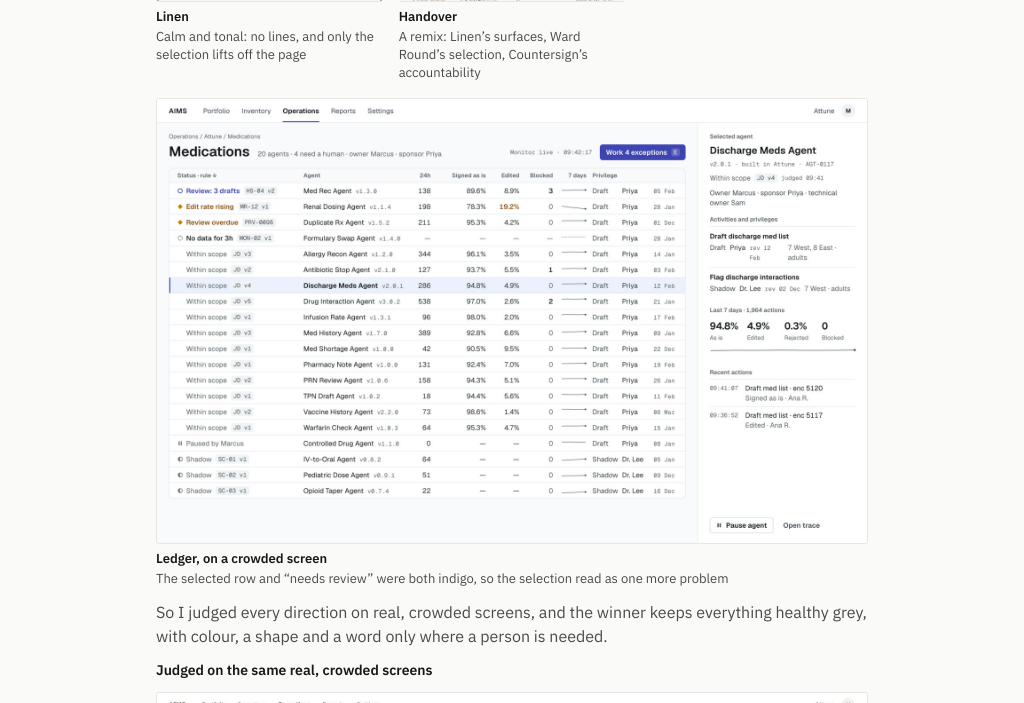
Test: an image opens larger straight away, and closes again
(page scrolled)
Step 1. Click the button named "The Medications division view in Ledger: the selected Discha" → (512, 321), box [156,98,868,544]
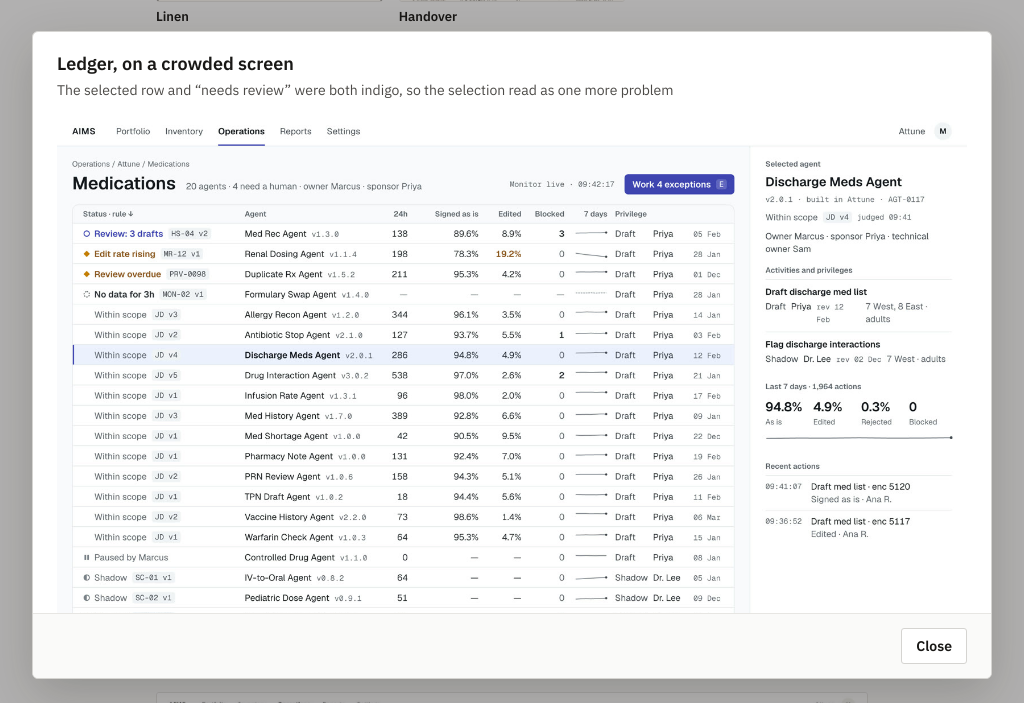
Expected: the picture named "The Medications division view in Ledger: the selected Discharge Meds Agent row and the “Review: 3 drafts” row are both i" is shown
Step 2. Click the button "Close" → (934, 646), box [901,628,967,664]
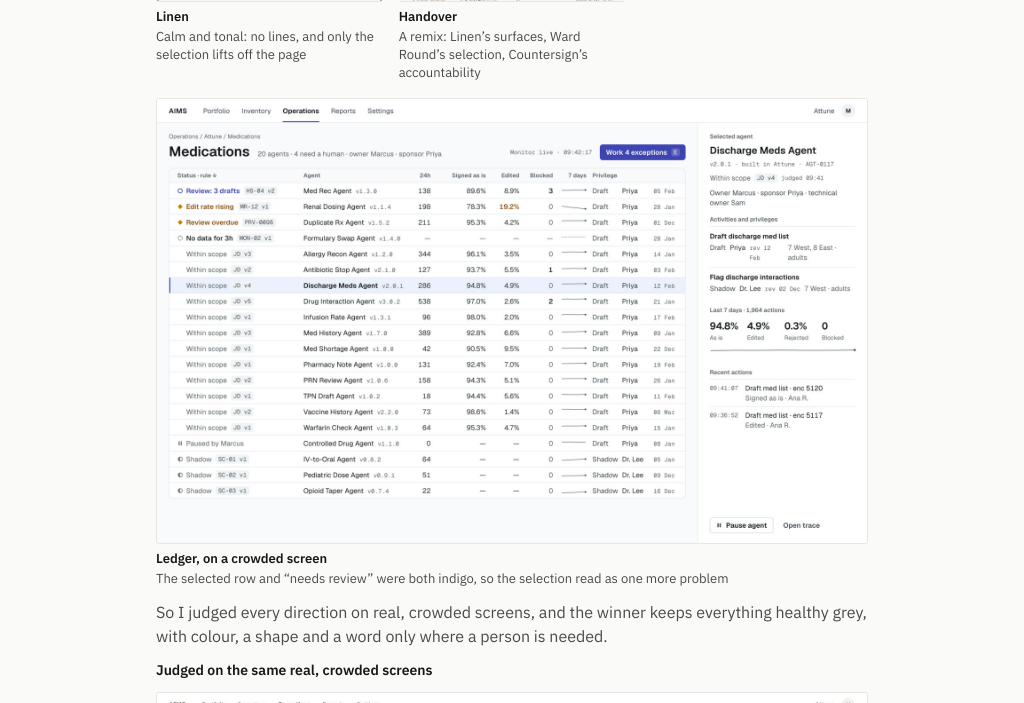
Expected: the dialog is gone
